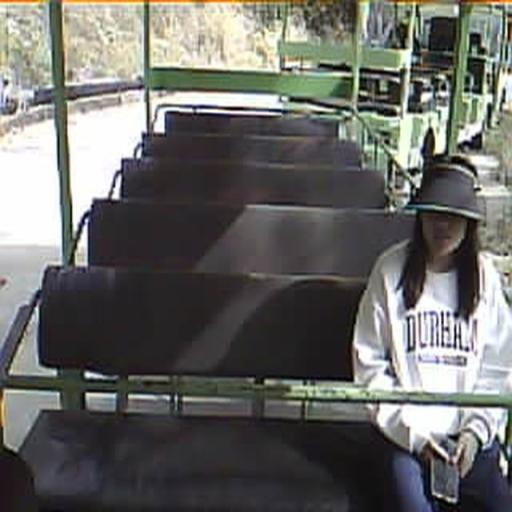persona: (350, 156, 512, 510)
